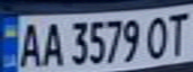3: (66, 17, 90, 66)
5: (87, 17, 109, 65)
7: (103, 16, 124, 64)
9: (121, 16, 145, 63)
A: (15, 19, 45, 69), (39, 18, 66, 68)
O: (142, 12, 172, 61)
T: (163, 8, 193, 57)
